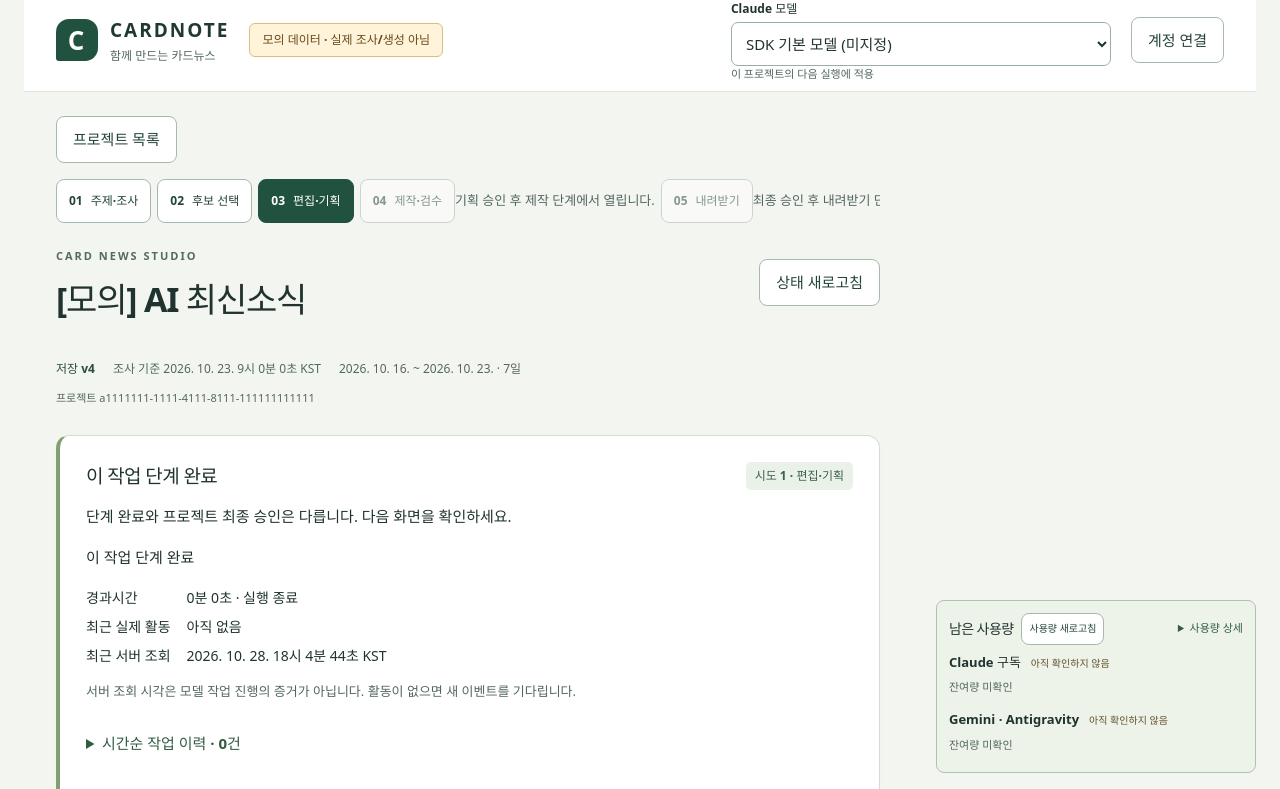
it: 이미 기획이 있는 조사 버튼은 정확한 차단 이유를 옆에 표시한다
The image size is (1280, 789).
expect the heading "[모의] AI 최신소식" is shown: met, box x1=56 y1=277 x2=306 y2=323
Click the button "01 주제·조사": (104, 201) x1=56 y1=179 x2=151 y2=223
(page scrolled)
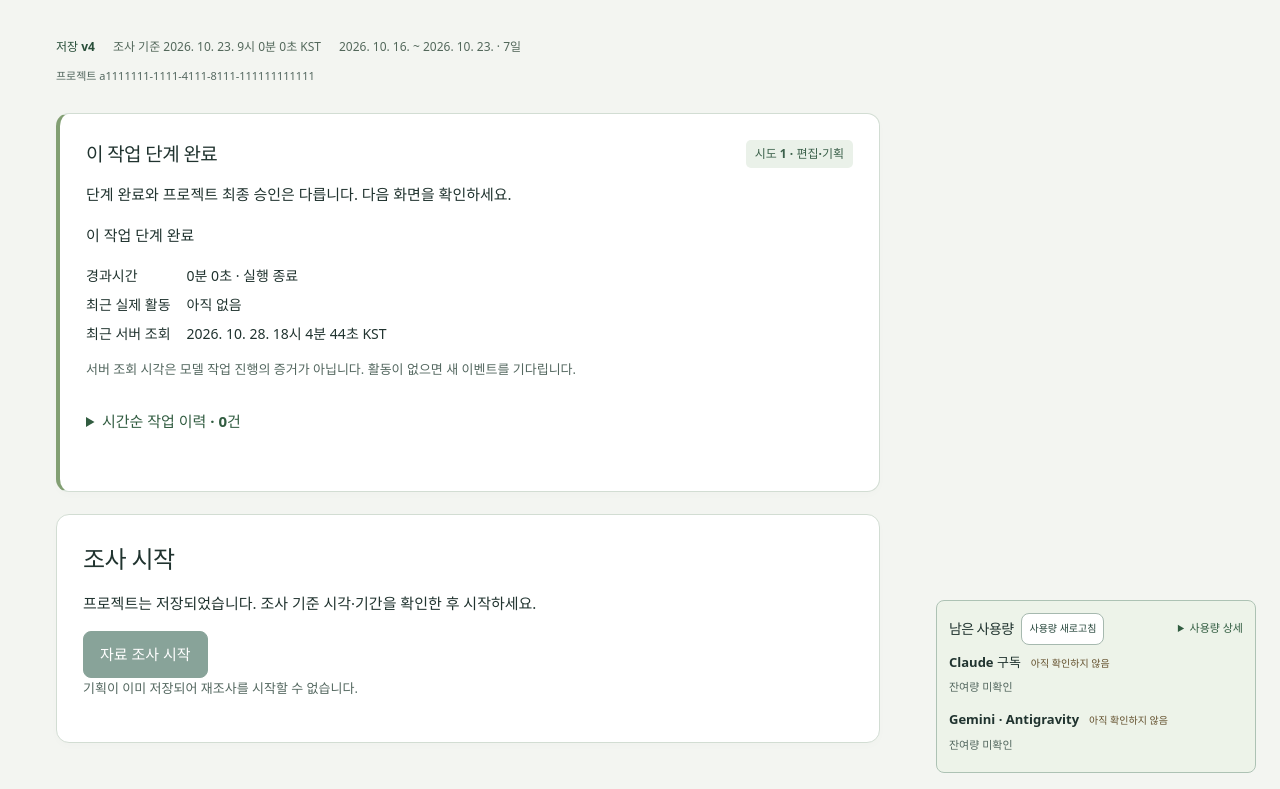
expect the button "자료 조사 시작" is disabled: met, box x1=83 y1=631 x2=208 y2=678
expect the element "자료 조사 시작" shows "기획이 이미 저장되어 재조사를 시작할 수 없습니다": met, box x1=83 y1=679 x2=358 y2=697
